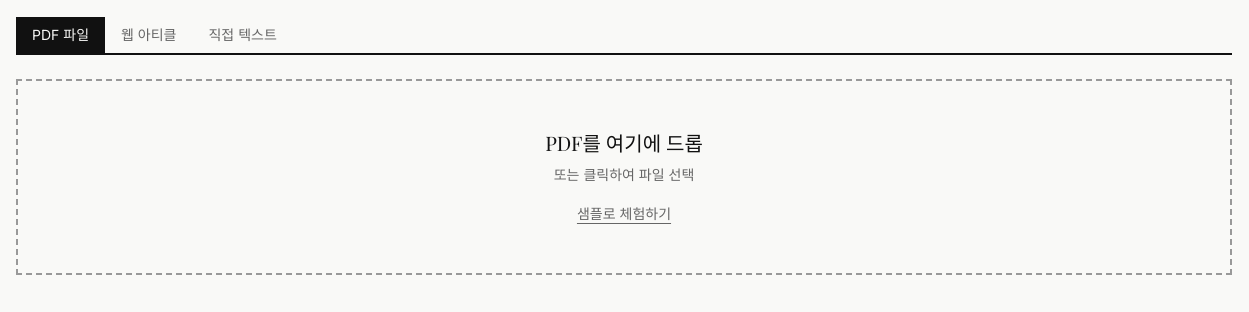
Test case: ContentSelector › 에러 표시
The width and height of the screenshot is (1249, 312).
Step 1. Click the button "웹 아티클" → (149, 35), box top-left (105, 17), bottom-right (192, 53)
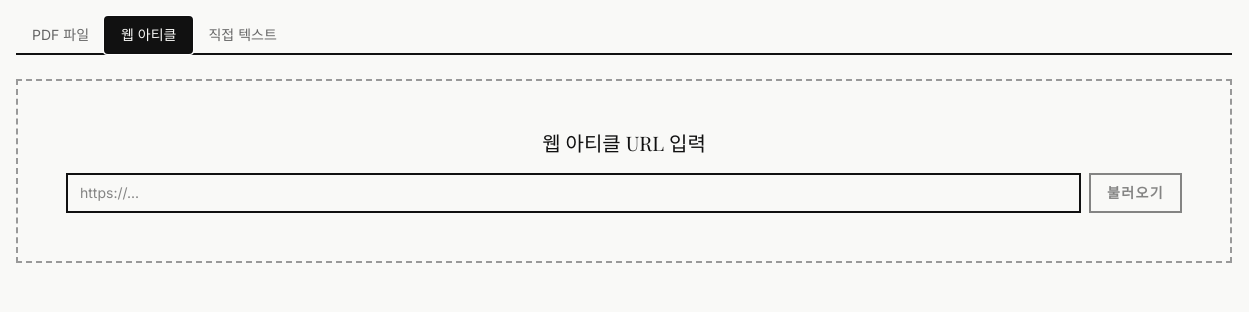
Step 2. Type "https://example.com/bad" into the field with placeholder "https://..." → (573, 193), box top-left (66, 173), bottom-right (1081, 213)
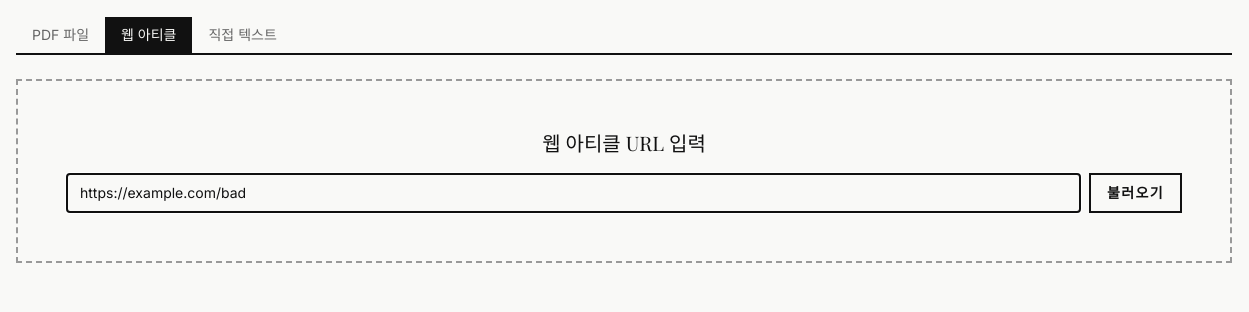
Step 3. Click the button "불러오기" → (1135, 193), box top-left (1089, 173), bottom-right (1182, 213)
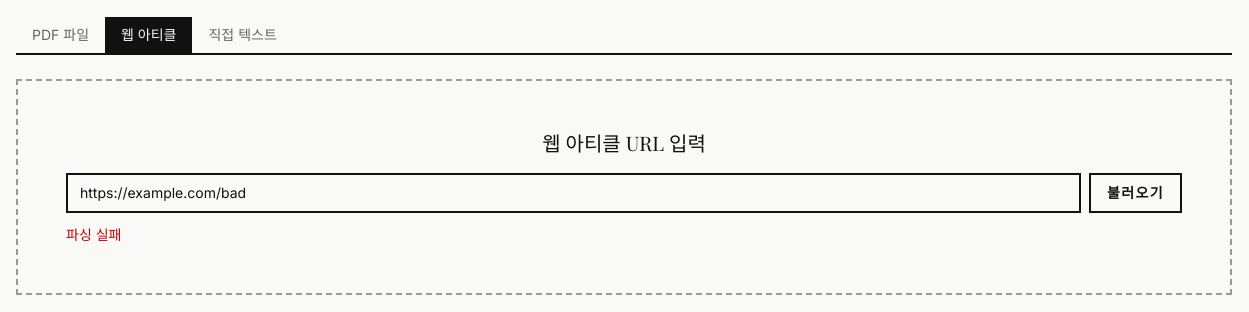
Result: the text "파싱 실패" is shown at top-left (66, 226), bottom-right (122, 243)
